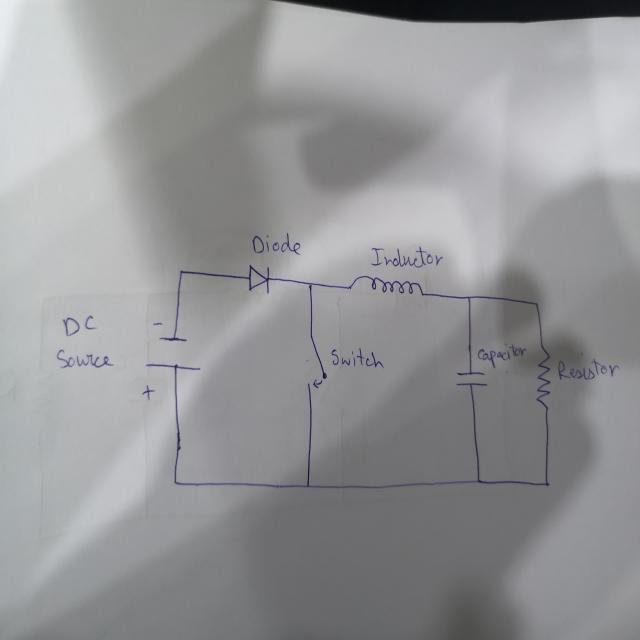capacitor: (454, 369, 487, 389)
diode: (245, 262, 271, 296)
inductor: (347, 273, 425, 298)
junction: (169, 474, 182, 489), (175, 265, 188, 280), (304, 279, 316, 292), (474, 474, 484, 488), (302, 479, 312, 491), (532, 299, 540, 310), (542, 477, 550, 488), (464, 292, 472, 303)
resistor: (536, 346, 552, 411)
source: (139, 318, 204, 403)
switch: (303, 334, 329, 394)
text: (368, 242, 446, 270), (54, 346, 116, 371), (556, 355, 618, 380), (330, 346, 385, 369), (250, 232, 302, 256), (475, 343, 526, 365), (60, 312, 98, 338)
